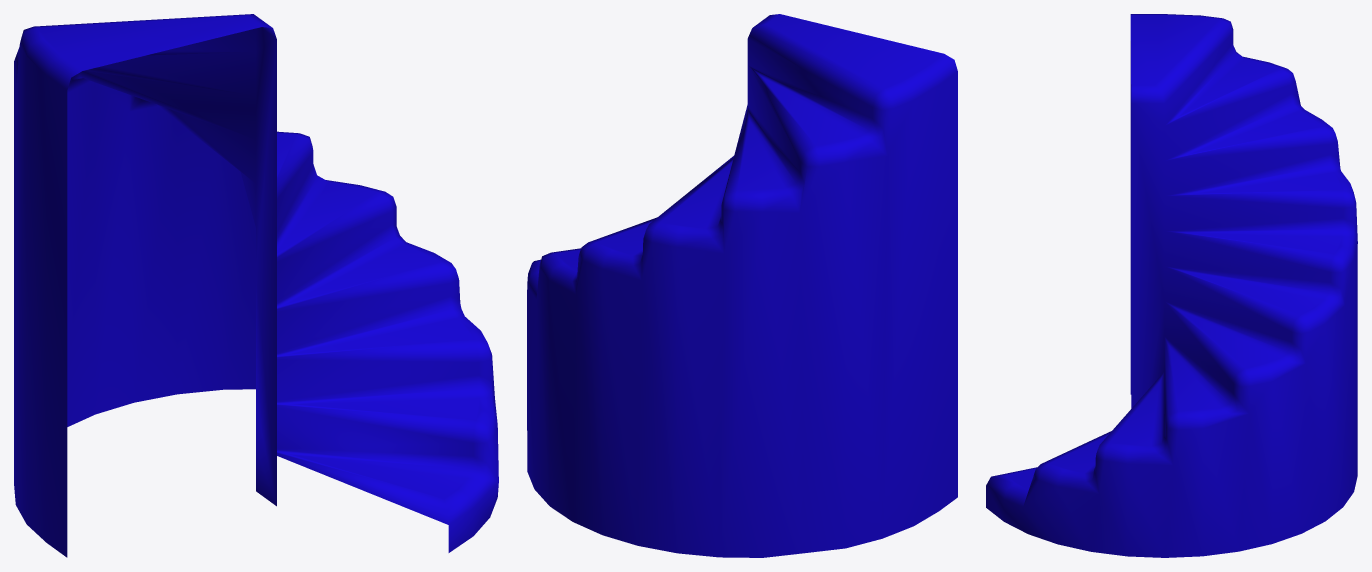
The model's file is SM_Stairs.fbx.
The picture shows the model from 3 angles, left to right: view 1: azimuth 30°, elevation 25°; view 2: azimuth 150°, elevation 25°; view 3: azimuth 270°, elevation 25°; orthographic projection. The views are drawn at different scales.
Parts seen in each view (by area): view 1: SM_Stairs; view 2: SM_Stairs; view 3: SM_Stairs.
Boxes of the visible parts, left/top/right/bottom form: SM_Stairs: left=14, top=14, right=498, bottom=557; SM_Stairs: left=527, top=14, right=957, bottom=557; SM_Stairs: left=986, top=14, right=1357, bottom=557.
Bounding box in the file's own units: 401 × 440 × 385.
